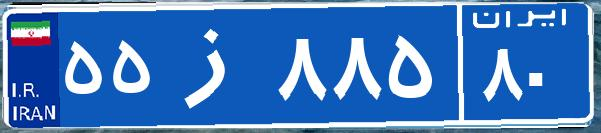0: (525, 38, 570, 115)
5: (385, 28, 445, 110), (57, 26, 110, 107), (110, 28, 158, 105)
8: (273, 28, 330, 110), (330, 28, 385, 110), (475, 38, 525, 113)
ز: (158, 15, 273, 115)
